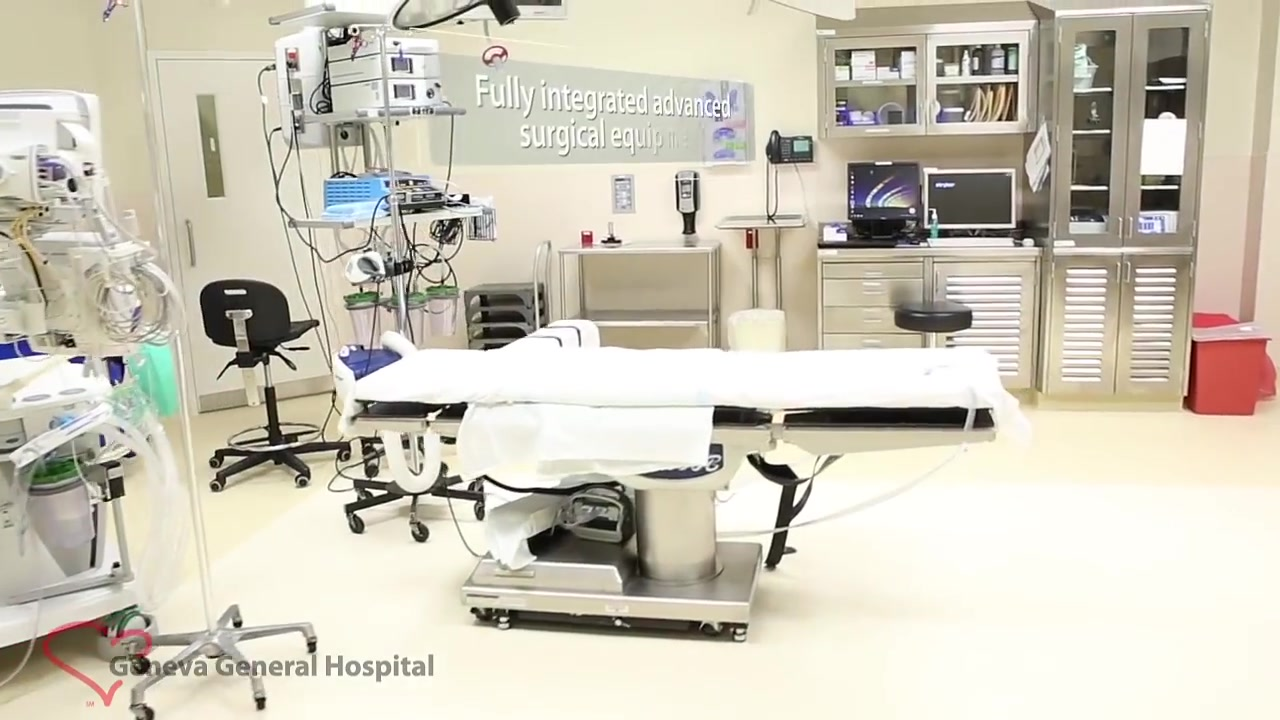breathing_tube: (58, 396, 193, 609)
cabinet: (1039, 2, 1214, 403), (810, 11, 1032, 137)
chair: (198, 275, 330, 485), (894, 299, 973, 349)
computer: (926, 167, 1018, 230), (847, 162, 923, 223)
dispenser: (674, 169, 701, 237)
door_handle: (181, 215, 203, 270)
drawer: (816, 248, 1036, 393)
electrosurgical_unit: (322, 173, 448, 210)
handle: (861, 288, 887, 300), (860, 267, 885, 279), (859, 336, 884, 347), (1126, 215, 1135, 241), (1116, 215, 1125, 241), (862, 316, 885, 326), (927, 102, 936, 127), (917, 102, 925, 127), (1124, 261, 1132, 285), (1114, 262, 1122, 286)
iv_pole: (123, 1, 220, 636), (351, 26, 419, 335)
keyboard: (817, 237, 900, 252)
mouse: (1022, 237, 1036, 247)
operating_bed: (330, 331, 1000, 643)
surgical_light: (391, 1, 520, 32)
table: (557, 238, 723, 347)
telephone: (766, 129, 816, 165)
utility_cart: (717, 212, 808, 310)
ventilator: (2, 198, 157, 634)
waste_bin: (1189, 319, 1271, 417)
